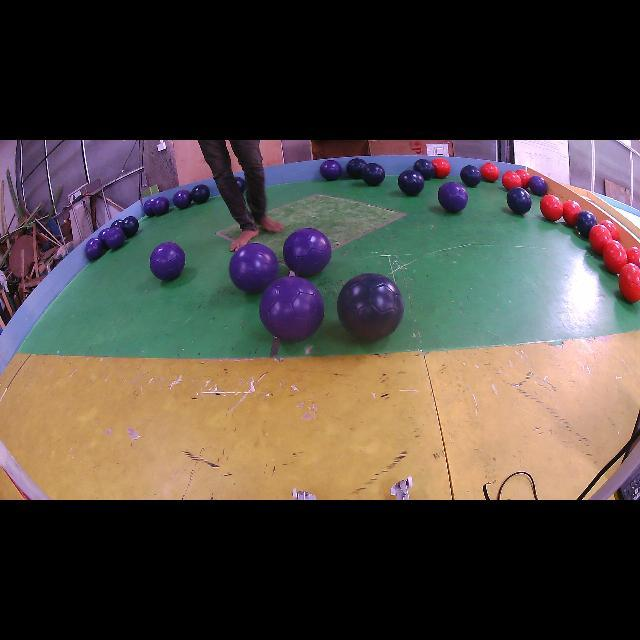B: (338, 274, 404, 340), (506, 186, 531, 215), (398, 170, 425, 196), (576, 210, 598, 239), (361, 162, 385, 186), (460, 165, 481, 187), (414, 159, 435, 180), (346, 159, 366, 179), (121, 216, 139, 238), (191, 184, 210, 204), (235, 176, 246, 193), (110, 219, 122, 227)
P: (257, 277, 324, 342), (229, 242, 279, 292), (282, 228, 331, 276), (150, 242, 185, 280), (438, 181, 468, 212), (105, 226, 125, 249), (320, 160, 341, 181), (85, 238, 104, 260), (529, 175, 548, 196), (172, 190, 191, 209), (152, 196, 170, 216), (98, 229, 110, 248), (142, 199, 155, 216)
R: (602, 240, 628, 274), (619, 264, 640, 302), (589, 225, 612, 255), (540, 195, 564, 221), (562, 200, 581, 226), (480, 162, 500, 182), (432, 158, 451, 179), (501, 171, 521, 190), (600, 220, 619, 240), (626, 246, 640, 266), (516, 170, 530, 189)
